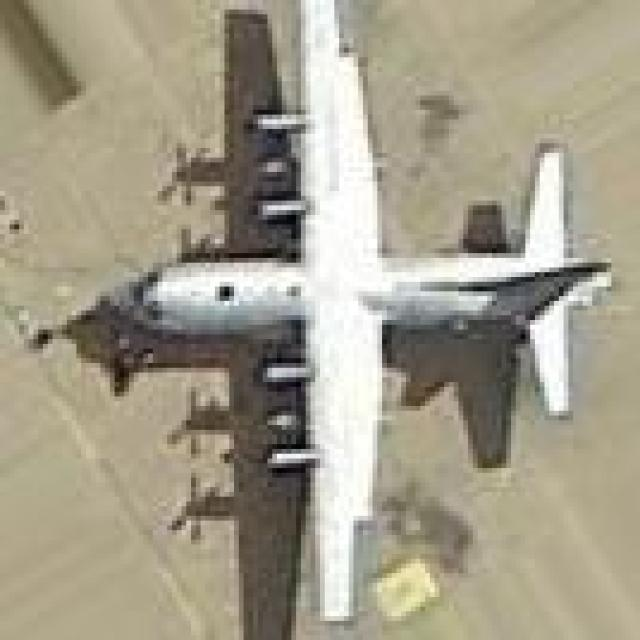C-130_TopDown: (55, 0, 618, 640)
